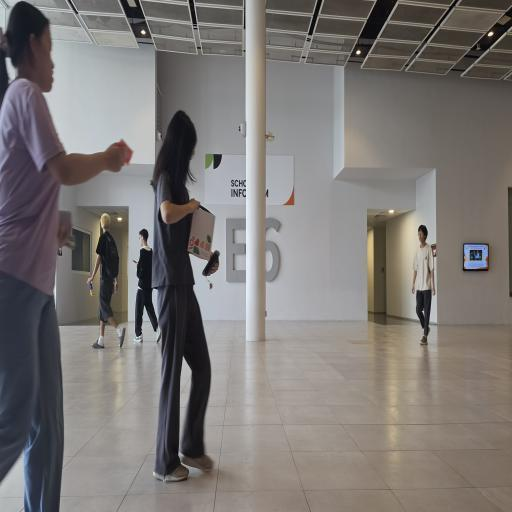person_left: (88, 204, 125, 352), (408, 208, 439, 346), (128, 214, 160, 342)
person_right: (0, 0, 86, 512), (147, 100, 220, 480)
